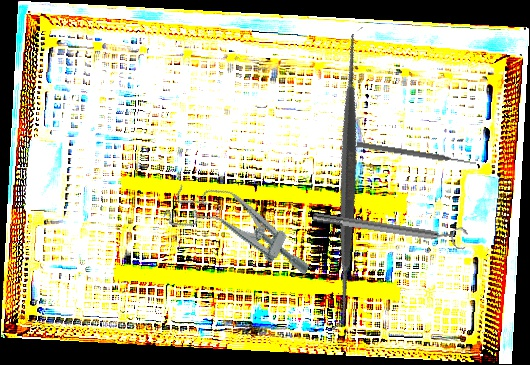Fixation Ring: (311, 203, 469, 253)
Pusher: (356, 140, 477, 168)
Spatula Surgical: (196, 26, 499, 331)
Speculum: (161, 170, 324, 286)
